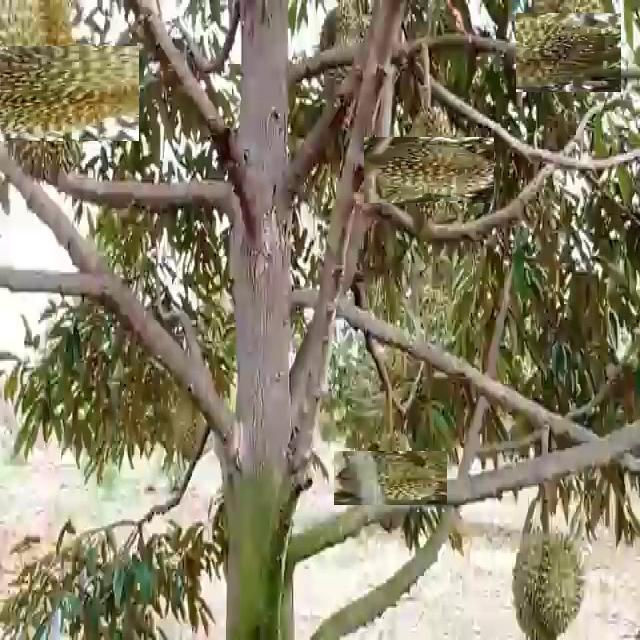durian: (0, 24, 117, 163), (379, 121, 478, 220), (508, 524, 586, 638), (522, 6, 615, 99), (348, 436, 432, 520)
